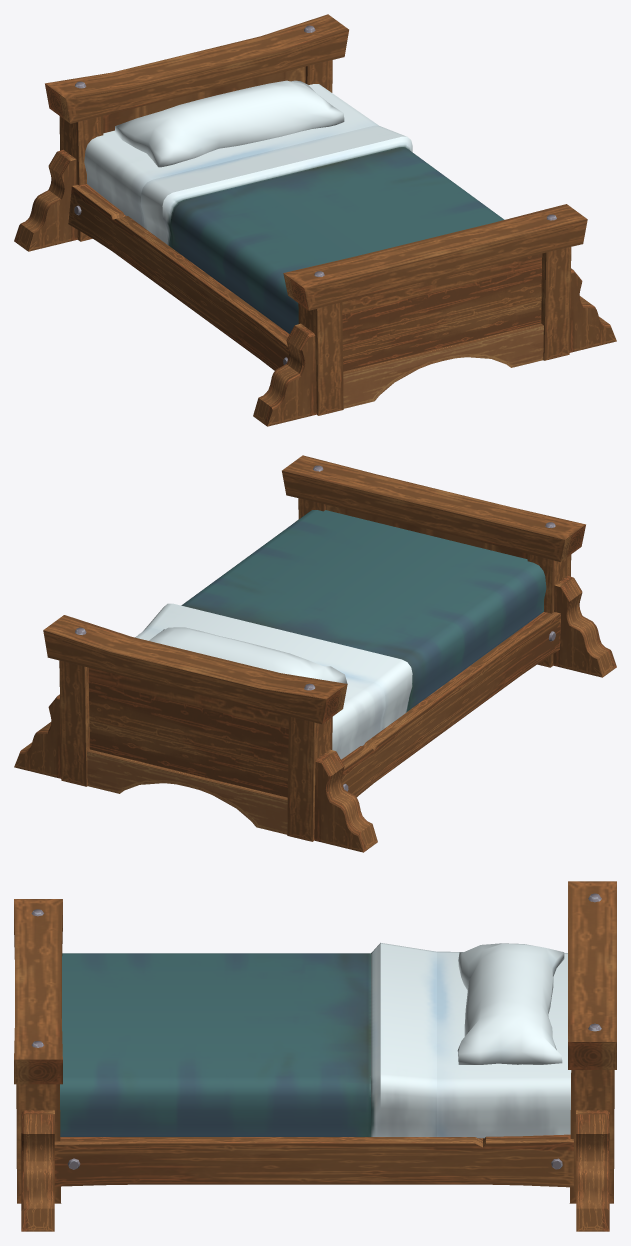
3 renders of one model, top to bottom at view 1: azimuth 30°, elevation 25°; view 2: azimuth 150°, elevation 25°; view 3: azimuth 270°, elevation 25°, orthographic. The views are drawn at different scales.
Parts seen in each view (by area): view 1: c2df40a66453636f63457faec436195ffd3d73cde0dcddf7486ad93257fe; view 2: c2df40a66453636f63457faec436195ffd3d73cde0dcddf7486ad93257fe; view 3: c2df40a66453636f63457faec436195ffd3d73cde0dcddf7486ad93257fe.
Boxes of the visible parts, x1,y1,x2,y2 form: c2df40a66453636f63457faec436195ffd3d73cde0dcddf7486ad93257fe: [14, 14, 616, 426]; c2df40a66453636f63457faec436195ffd3d73cde0dcddf7486ad93257fe: [14, 455, 616, 852]; c2df40a66453636f63457faec436195ffd3d73cde0dcddf7486ad93257fe: [14, 881, 616, 1231].
Bounding box in the file's own units: 1.88 × 0.7596 × 2.41.
3 materials, 3 textured.
